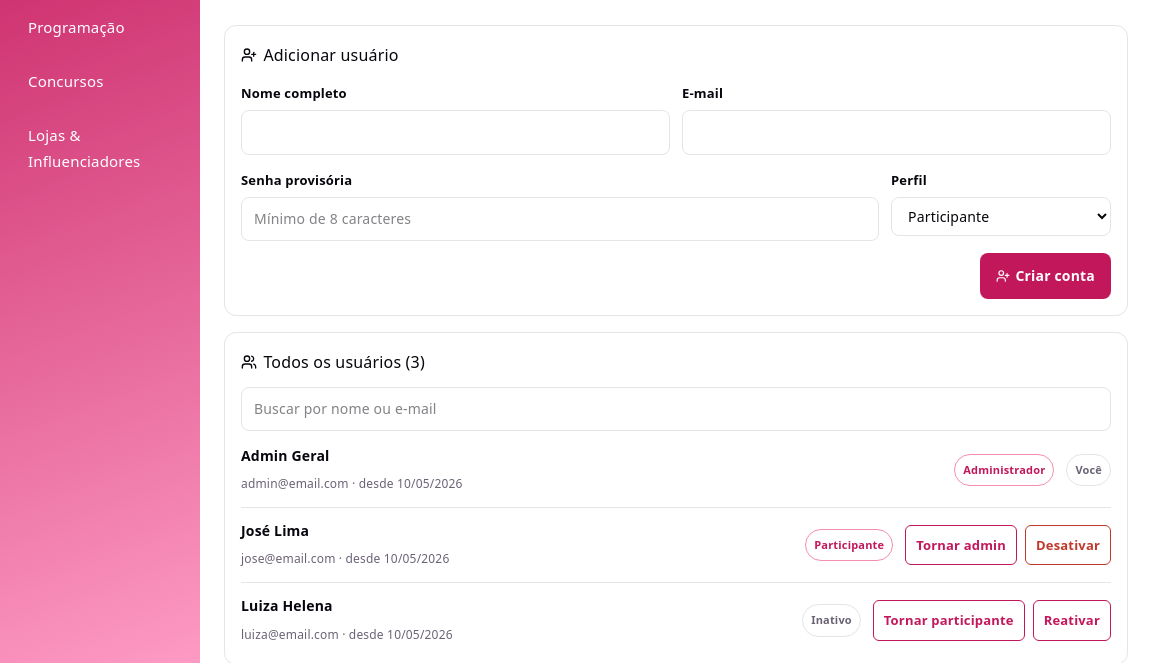
Scenario: AdminUsers › mostra o erro ao alterar
(page scrolled)
Click the button "Desativar" at {"x": 1068, "y": 545}, box [1025,525,1111,565]
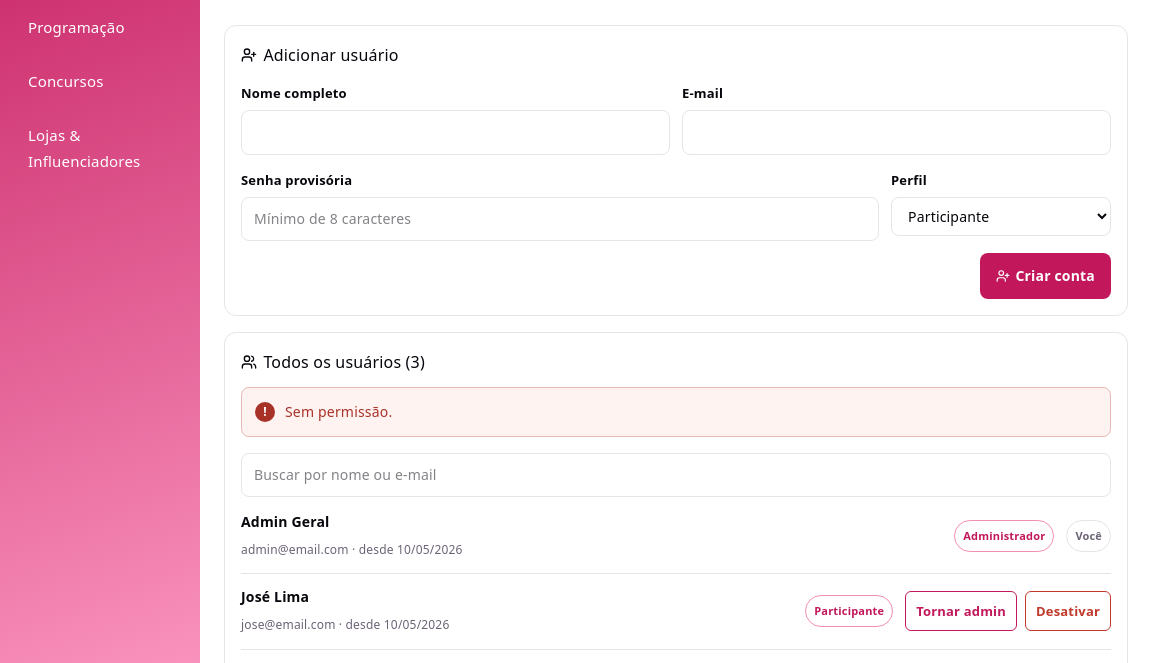
Expected: the message shows "Sem permissão.", [285,402,392,421]
